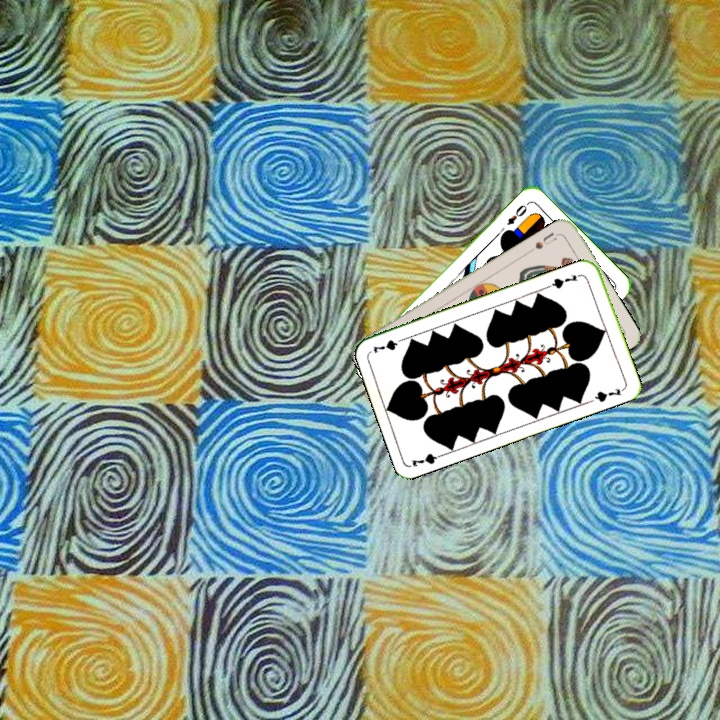EO: (503, 198, 531, 228)
G7: (408, 449, 449, 470), (545, 270, 585, 291)
SU: (525, 228, 562, 255)
